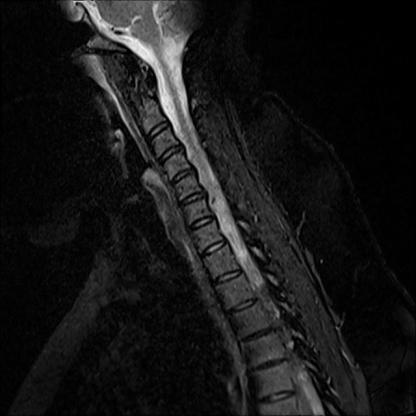Annular Disc Relaxationrotation: (177, 193, 208, 208), (167, 170, 198, 183)
